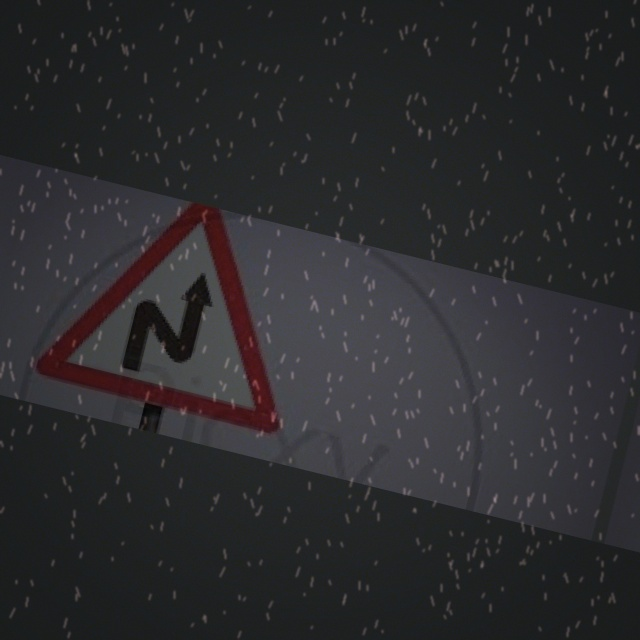Right_Reverse_Bend: (63, 200, 298, 428)
